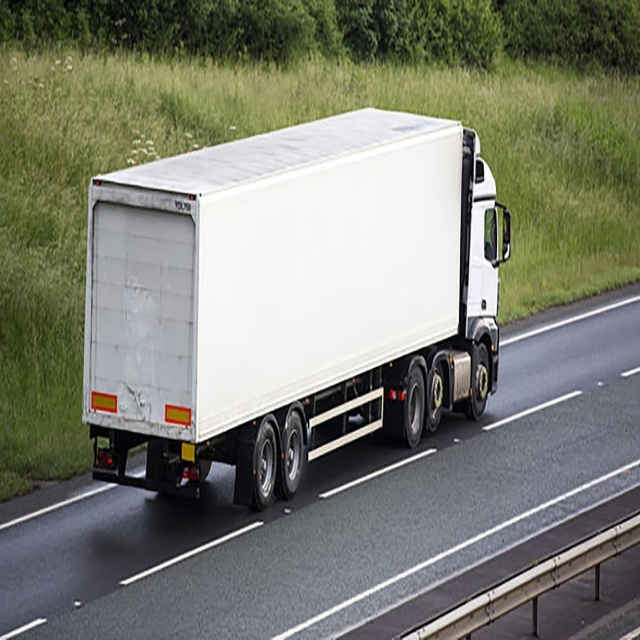Truck: (81, 105, 510, 513)
